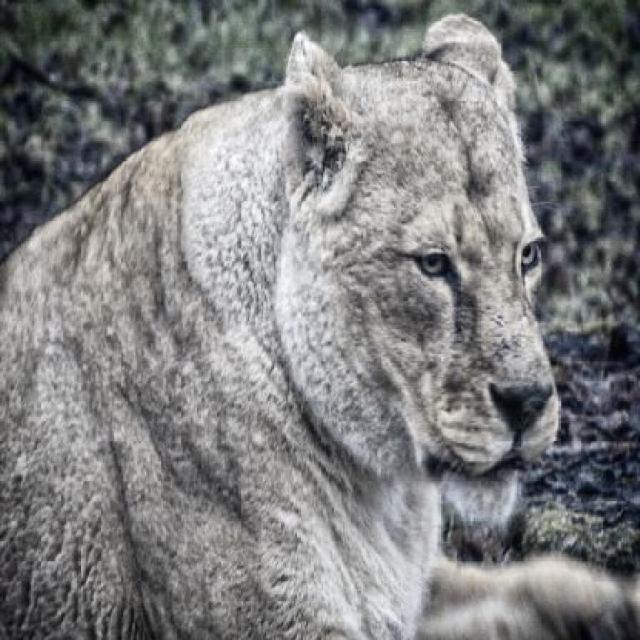Lion: (1, 9, 578, 638)
